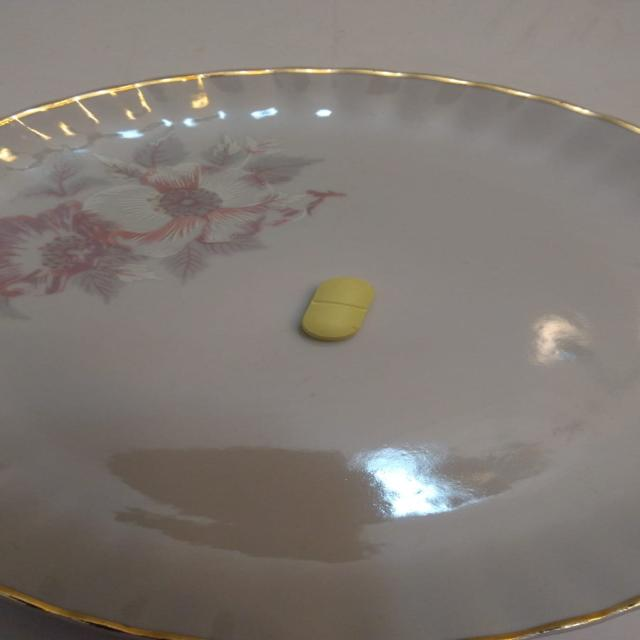pills: (287, 270, 397, 349)
